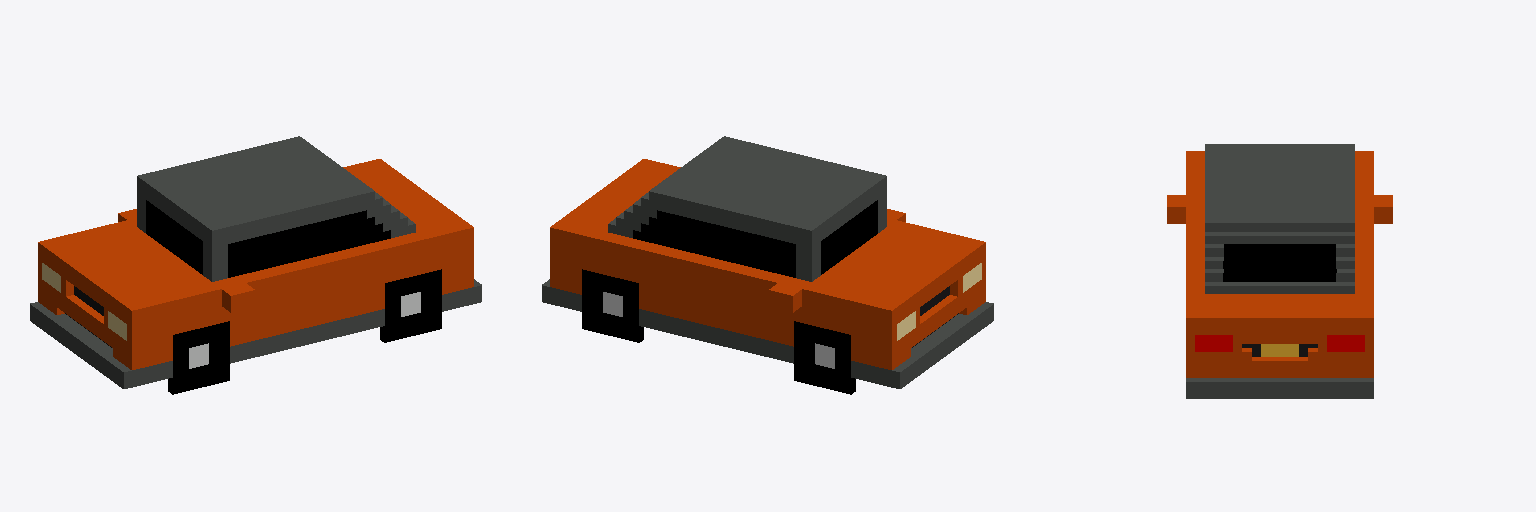
3 views of the same model, side by side, from view 1: azimuth 30°, elevation 25°; view 2: azimuth 150°, elevation 25°; view 3: azimuth 270°, elevation 25° (orthographic).
Visible parts, largest first — view 1: Car15; view 2: Car15; view 3: Car15.
Boxes of the visible parts, box(x1,y1,x2,y2) form: Car15: box(30, 136, 481, 394); Car15: box(542, 136, 993, 394); Car15: box(1167, 144, 1392, 398).
Bounding box in the file's own units: 2.2 × 0.85 × 1.2.
1 materials, 1 textured.